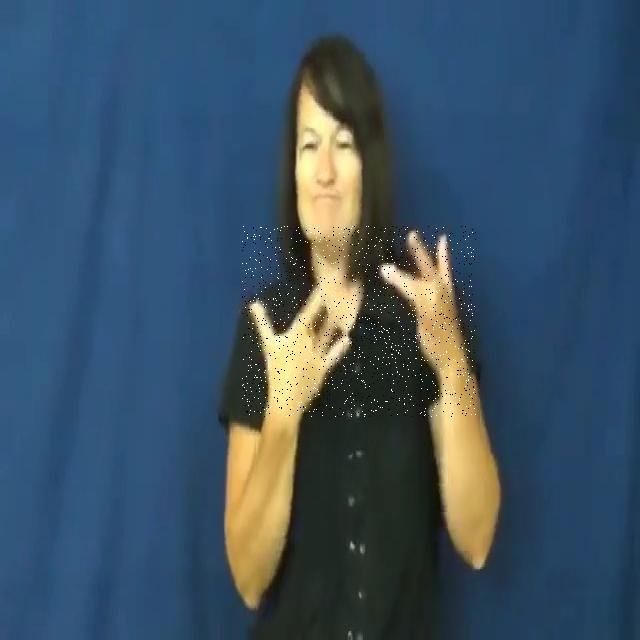hot: (242, 226, 476, 417)
